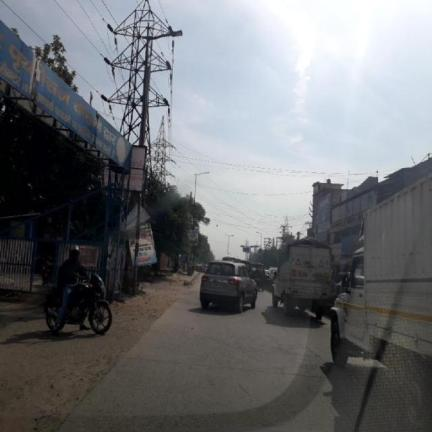Road: (62, 286, 427, 431)
